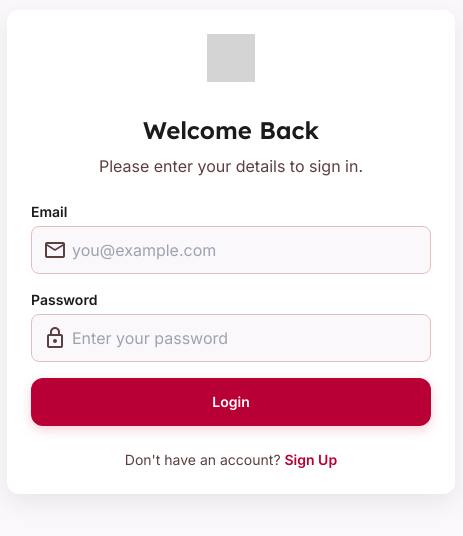
Test: LoginScreen › shows the generic "Invalid credentials" form error on a 401 response (Requirement 13.2)
Step 1. Type "jane@example.com" into the field with test id "login-email-input" → (231, 250), box [31, 226, 431, 274]
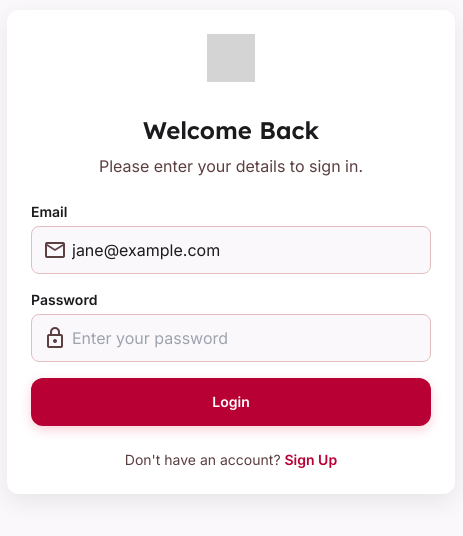
Step 2. Type "wrong-password" into the password field with test id "login-password-input" → (231, 338), box [31, 314, 431, 362]
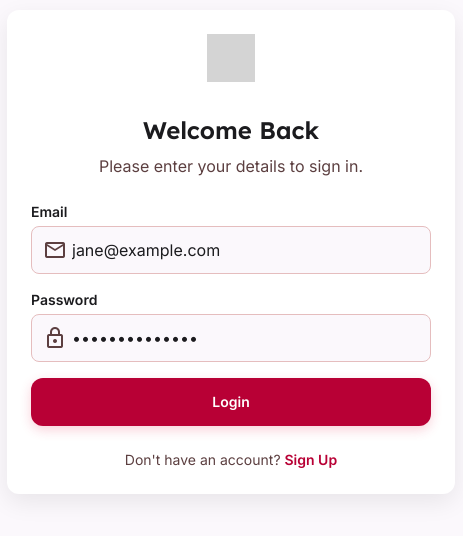
Step 3. Click the button with test id "login-submit" → (231, 402), box [31, 378, 431, 426]
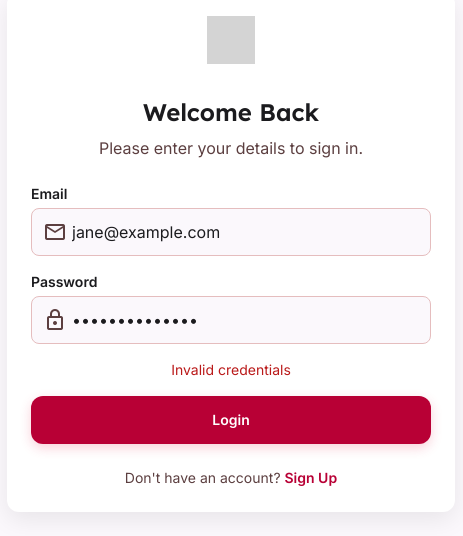
Expected: the element with test id "login-form-error" does not show "password"
Expected: the message with test id "login-form-error" reads "Invalid credentials", [171, 361, 291, 378]
